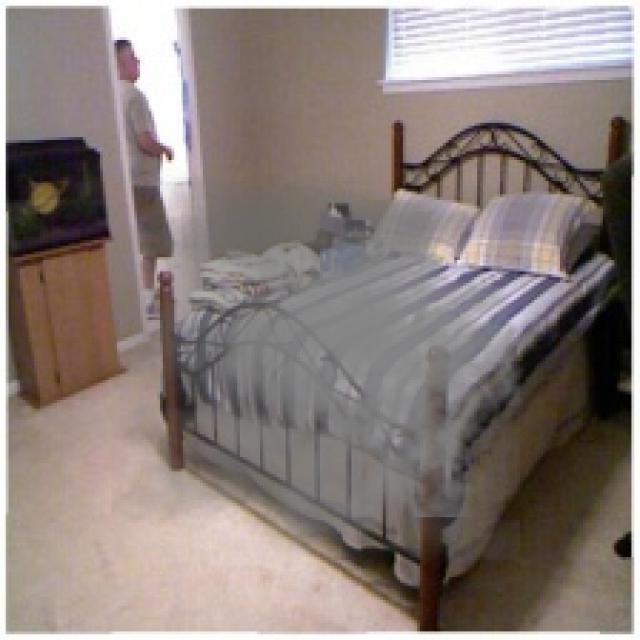Smoke: (111, 171, 534, 560)
